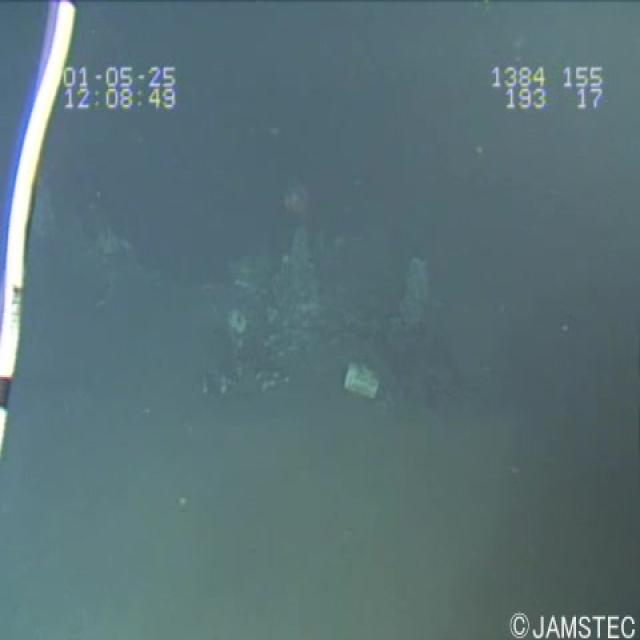plastic: (333, 350, 383, 402)
